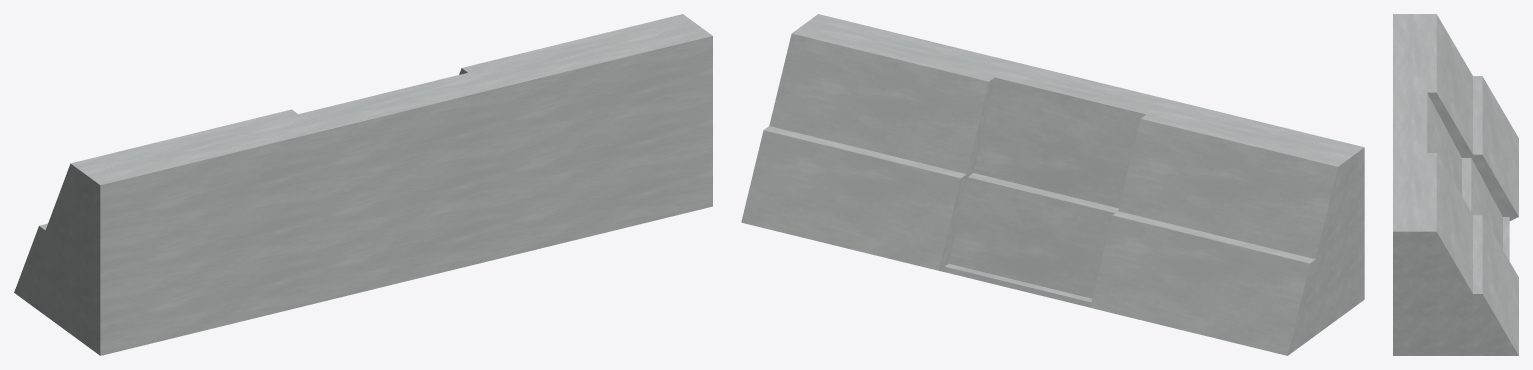
Rendered from wall.obj.
3 views of the same model, side by side, from view 1: azimuth 30°, elevation 25°; view 2: azimuth 150°, elevation 25°; view 3: azimuth 270°, elevation 25° (orthographic). The views are drawn at different scales.
Parts seen in each view (by area): view 1: wall.001; view 2: wall.001; view 3: wall.001.
Boxes of the visible parts, <box> form: wall.001: <box>14,14,712,355</box>; wall.001: <box>741,14,1364,355</box>; wall.001: <box>1393,14,1518,355</box>.
Size of the model in its own units: 380 by 106 by 92.88.
